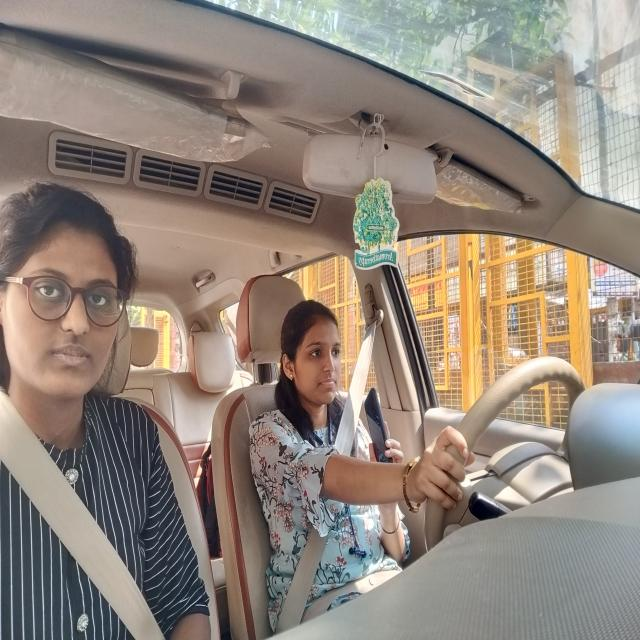mobile: (359, 397, 399, 465)
person: (12, 204, 132, 402), (282, 305, 348, 411)
